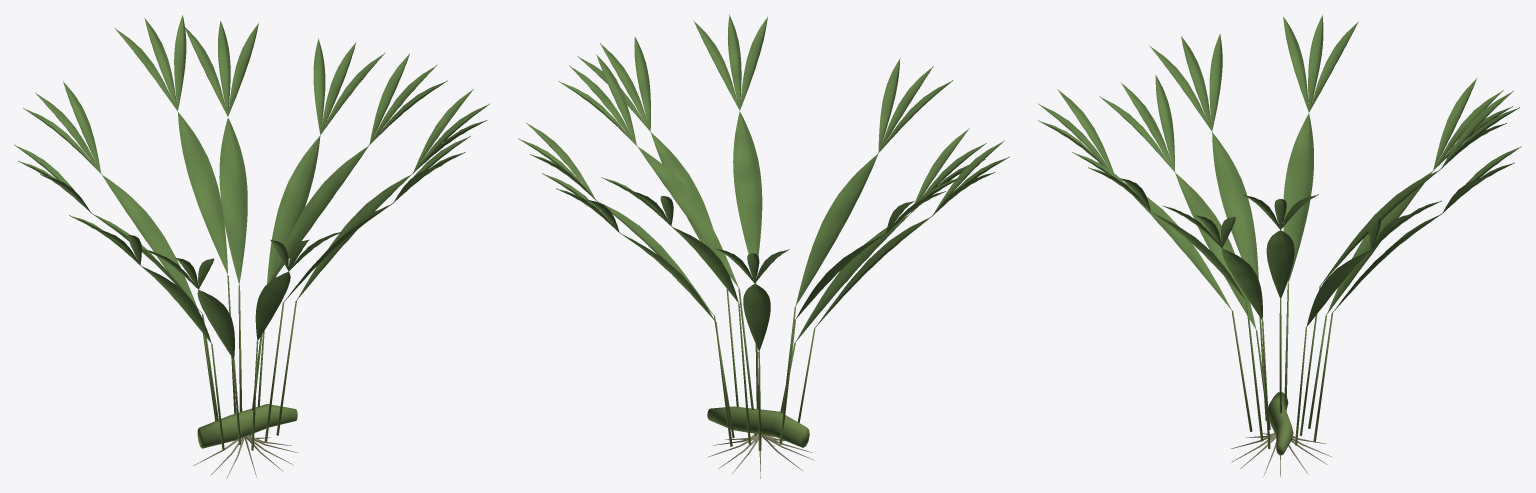
The model's file is trident-mobile.glb.
The picture shows the model from 3 angles, left to right: view 1: azimuth 30°, elevation 25°; view 2: azimuth 150°, elevation 25°; view 3: azimuth 270°, elevation 25°; orthographic projection. The views are drawn at different scales.
Parts seen in each view (by area): view 1: fern-lower-blade, petiole, creeping-rhizome, anchoring-root; view 2: fern-lower-blade, petiole, creeping-rhizome, anchoring-root; view 3: fern-lower-blade, petiole, creeping-rhizome, anchoring-root.
Part boxes in pixels (x1=…): fern-lower-blade: x1=14, y1=15, x2=489, y2=359; petiole: x1=202, y1=275, x2=296, y2=450; creeping-rhizome: x1=197, y1=404, x2=297, y2=448; anchoring-root: x1=193, y1=435, x2=297, y2=478; fern-lower-blade: x1=518, y1=14, x2=1009, y2=351; petiole: x1=714, y1=282, x2=815, y2=451; creeping-rhizome: x1=707, y1=406, x2=809, y2=447; anchoring-root: x1=707, y1=434, x2=814, y2=478; fern-lower-blade: x1=1038, y1=14, x2=1521, y2=330; petiole: x1=1231, y1=283, x2=1332, y2=449; creeping-rhizome: x1=1268, y1=392, x2=1293, y2=455; anchoring-root: x1=1231, y1=433, x2=1331, y2=477.
Bounding box in the file's own units: 0.7591 × 0.6161 × 0.7562.
